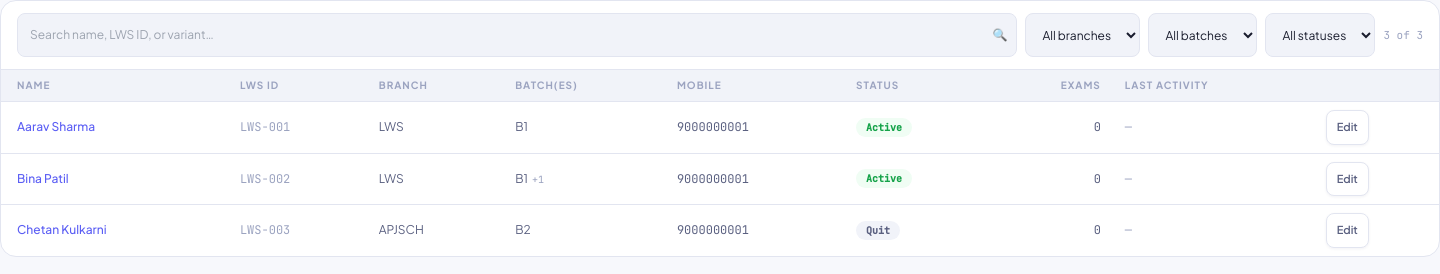
it: StudentsTable — filters › status filter narrows the list
Select "Quit" in the dropdown named "status" at [1320, 35], box [1265,13,1375,57]
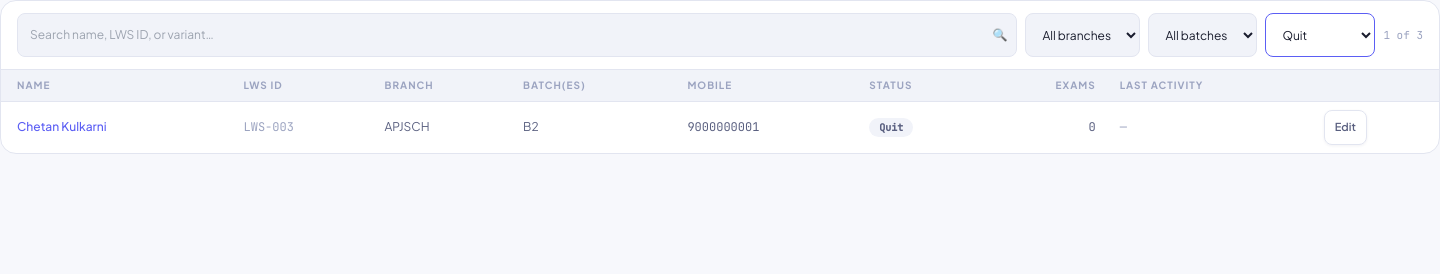
Expected: the button "Chetan Kulkarni" is shown, [17,118,107,136]
Expected: the button "Aarav Sharma" is gone
Expected: the button "Bina Patil" is gone
